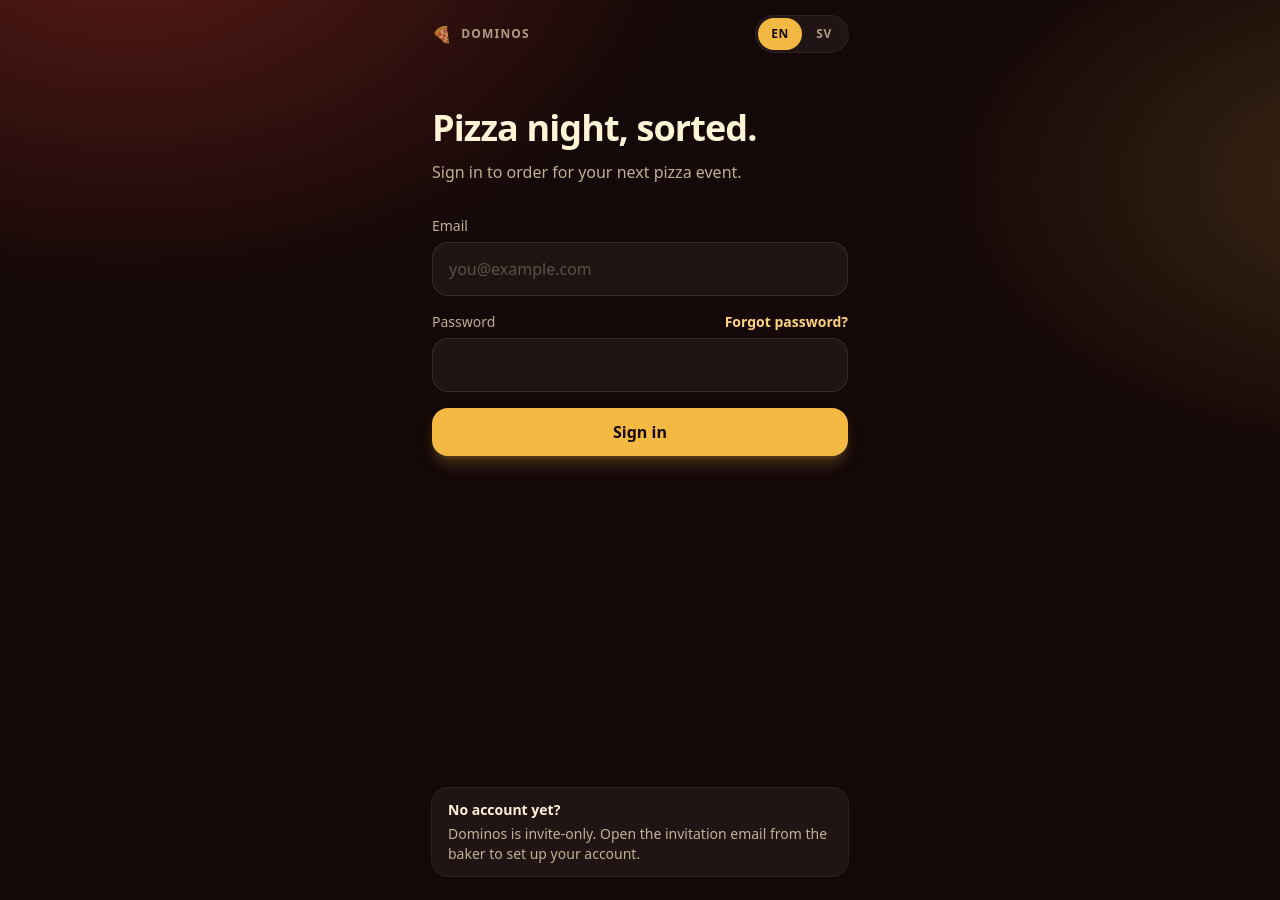
Test: signing in › translates an error already on screen when the language changes
The image size is (1280, 900).
Type "anna@example.com" into the field labelled "Email" at [640, 269], box x1=432 y1=242 x2=848 y2=296
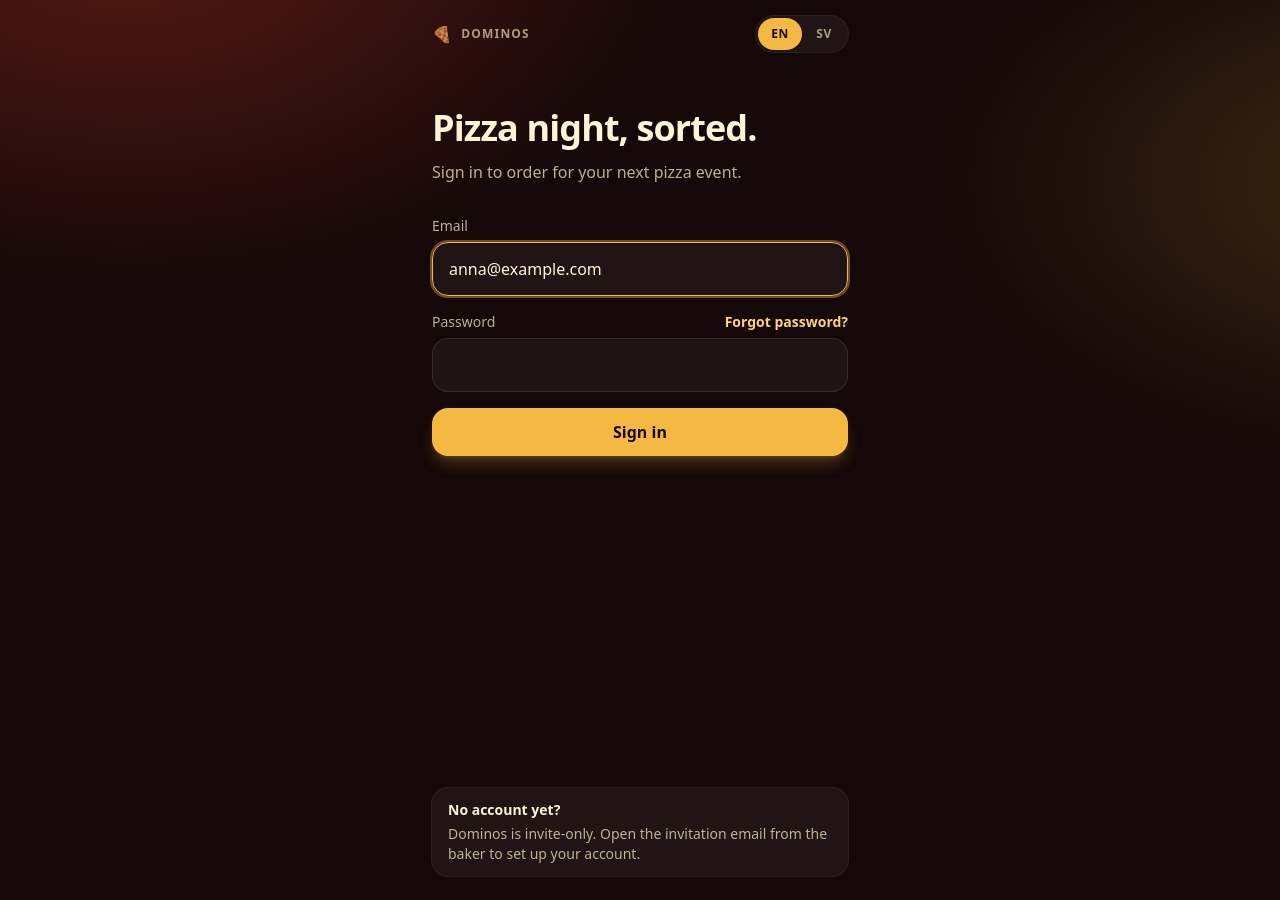
Type "wrong" into the password field labelled "Password" at [640, 365], box x1=432 y1=338 x2=848 y2=392
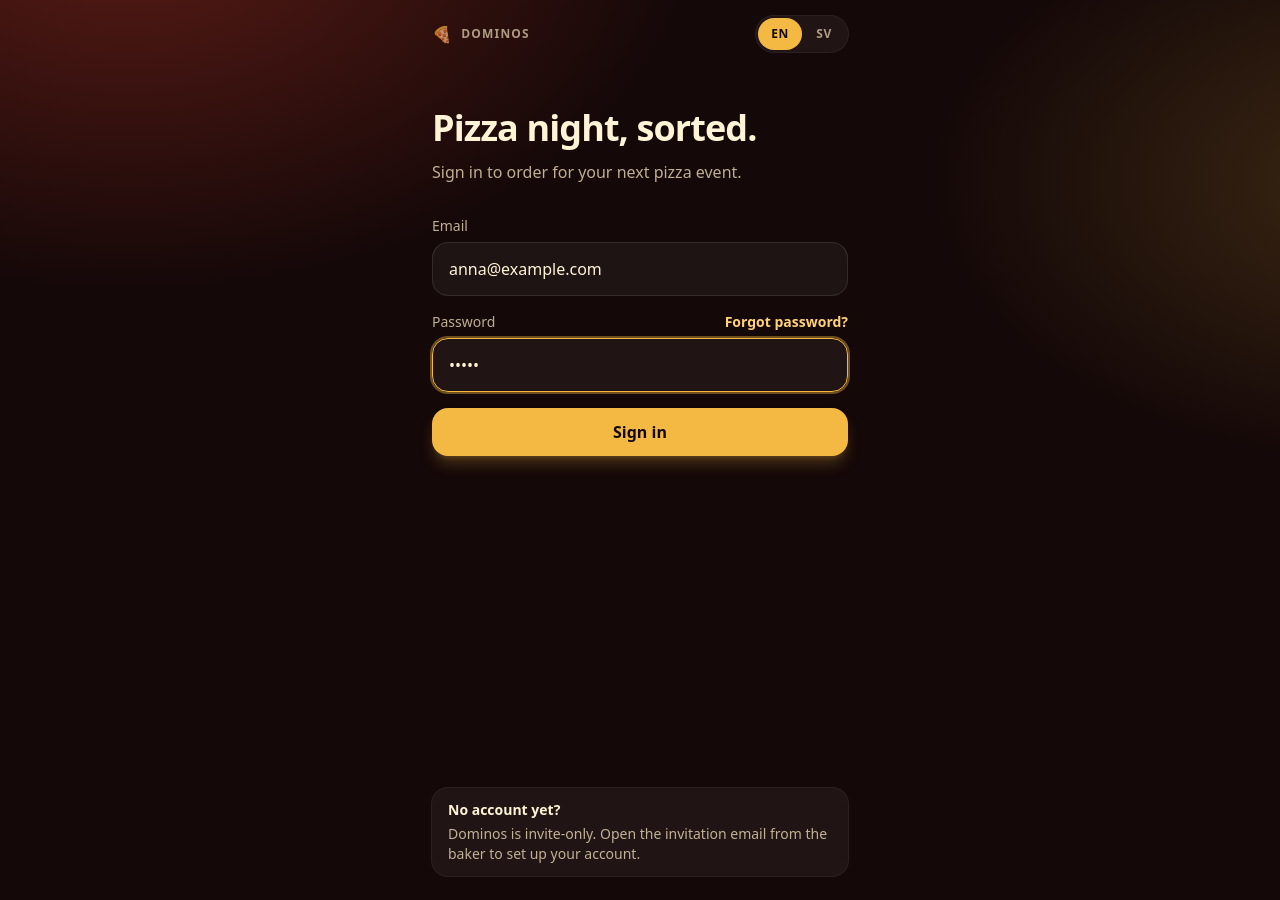
Click the button "Sign in" at [640, 432], box x1=432 y1=408 x2=848 y2=456
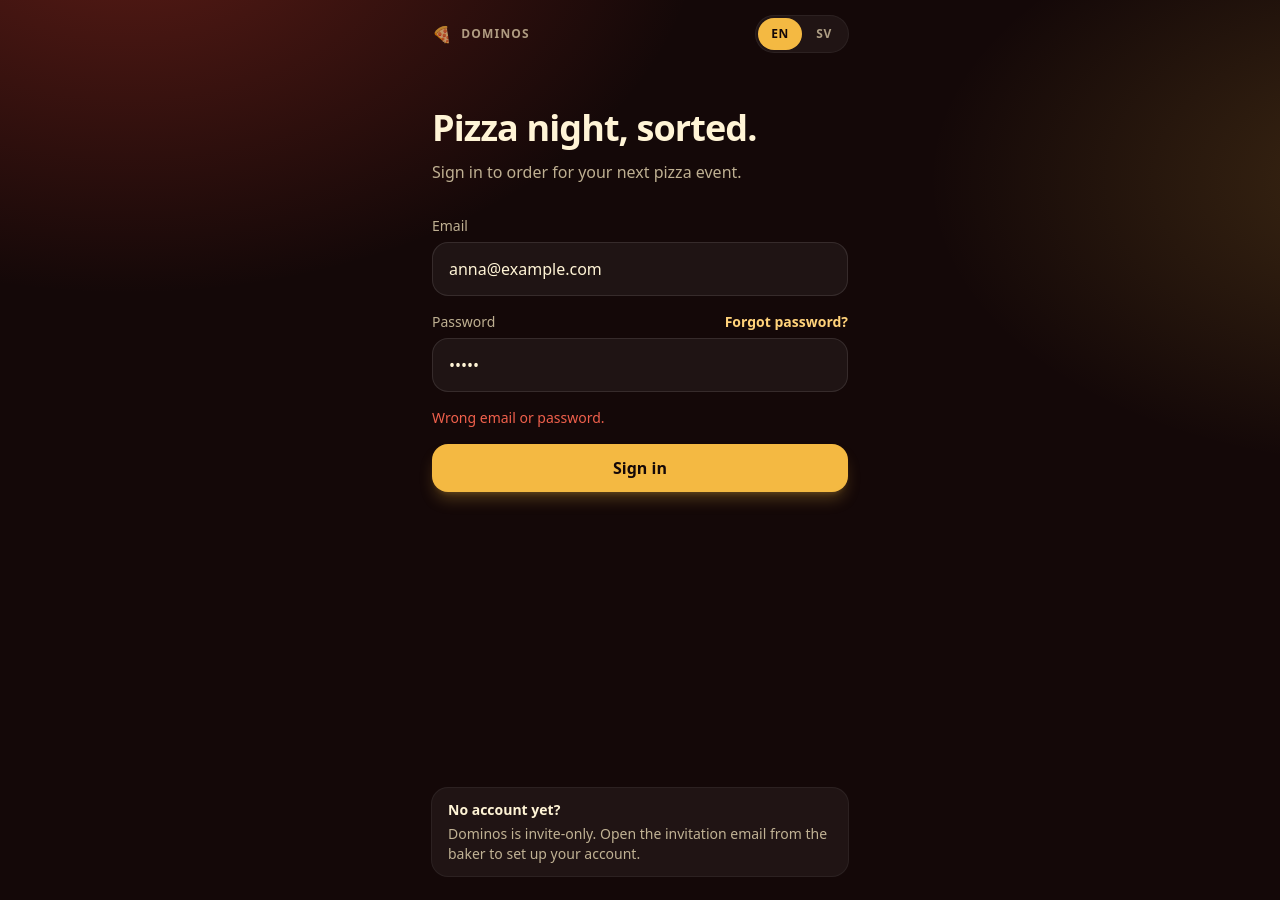
Result: the message shows "Wrong email or password" at x1=432 y1=408 x2=605 y2=427
Click the radio button with aria-label "svenska" at [824, 34], box x1=802 y1=18 x2=846 y2=50
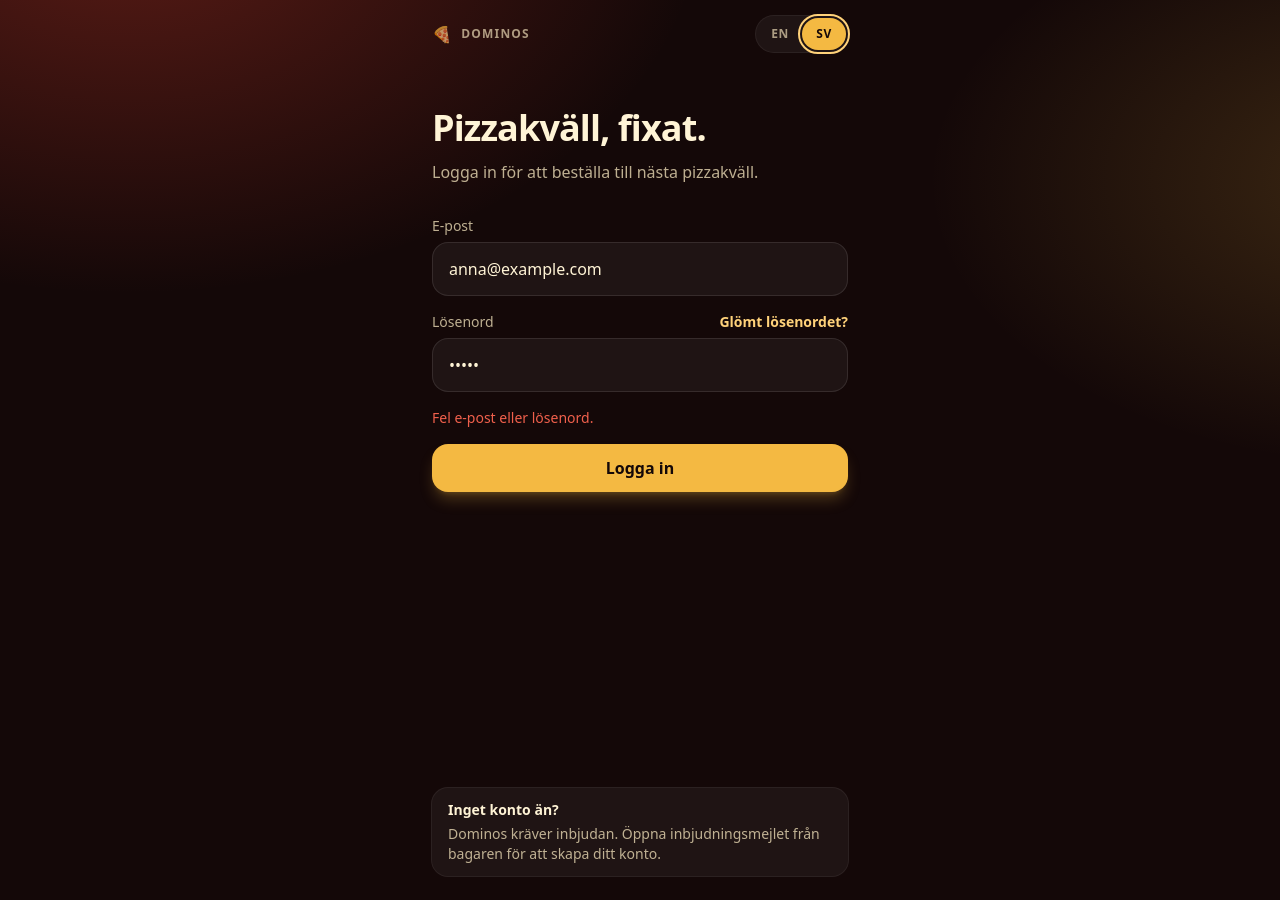
Result: the message shows "Fel e-post eller lösenord" at x1=432 y1=408 x2=593 y2=427
